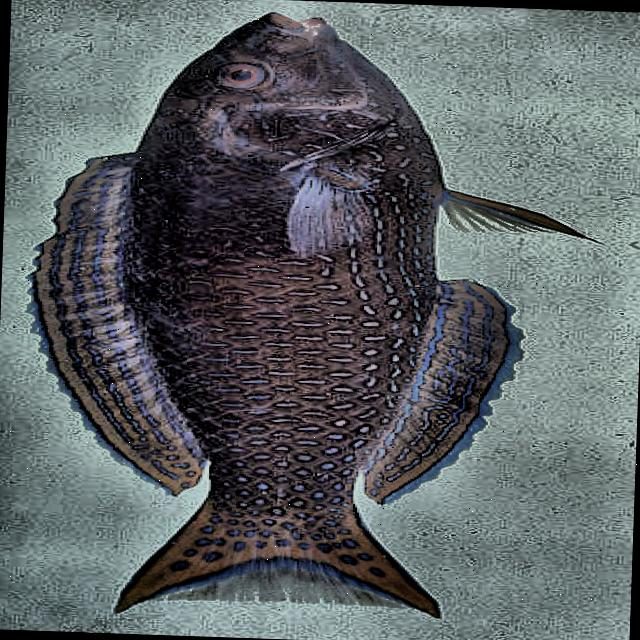fish: (10, 1, 615, 628)
